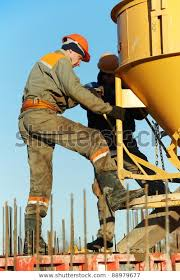helmet: (64, 30, 97, 60)
